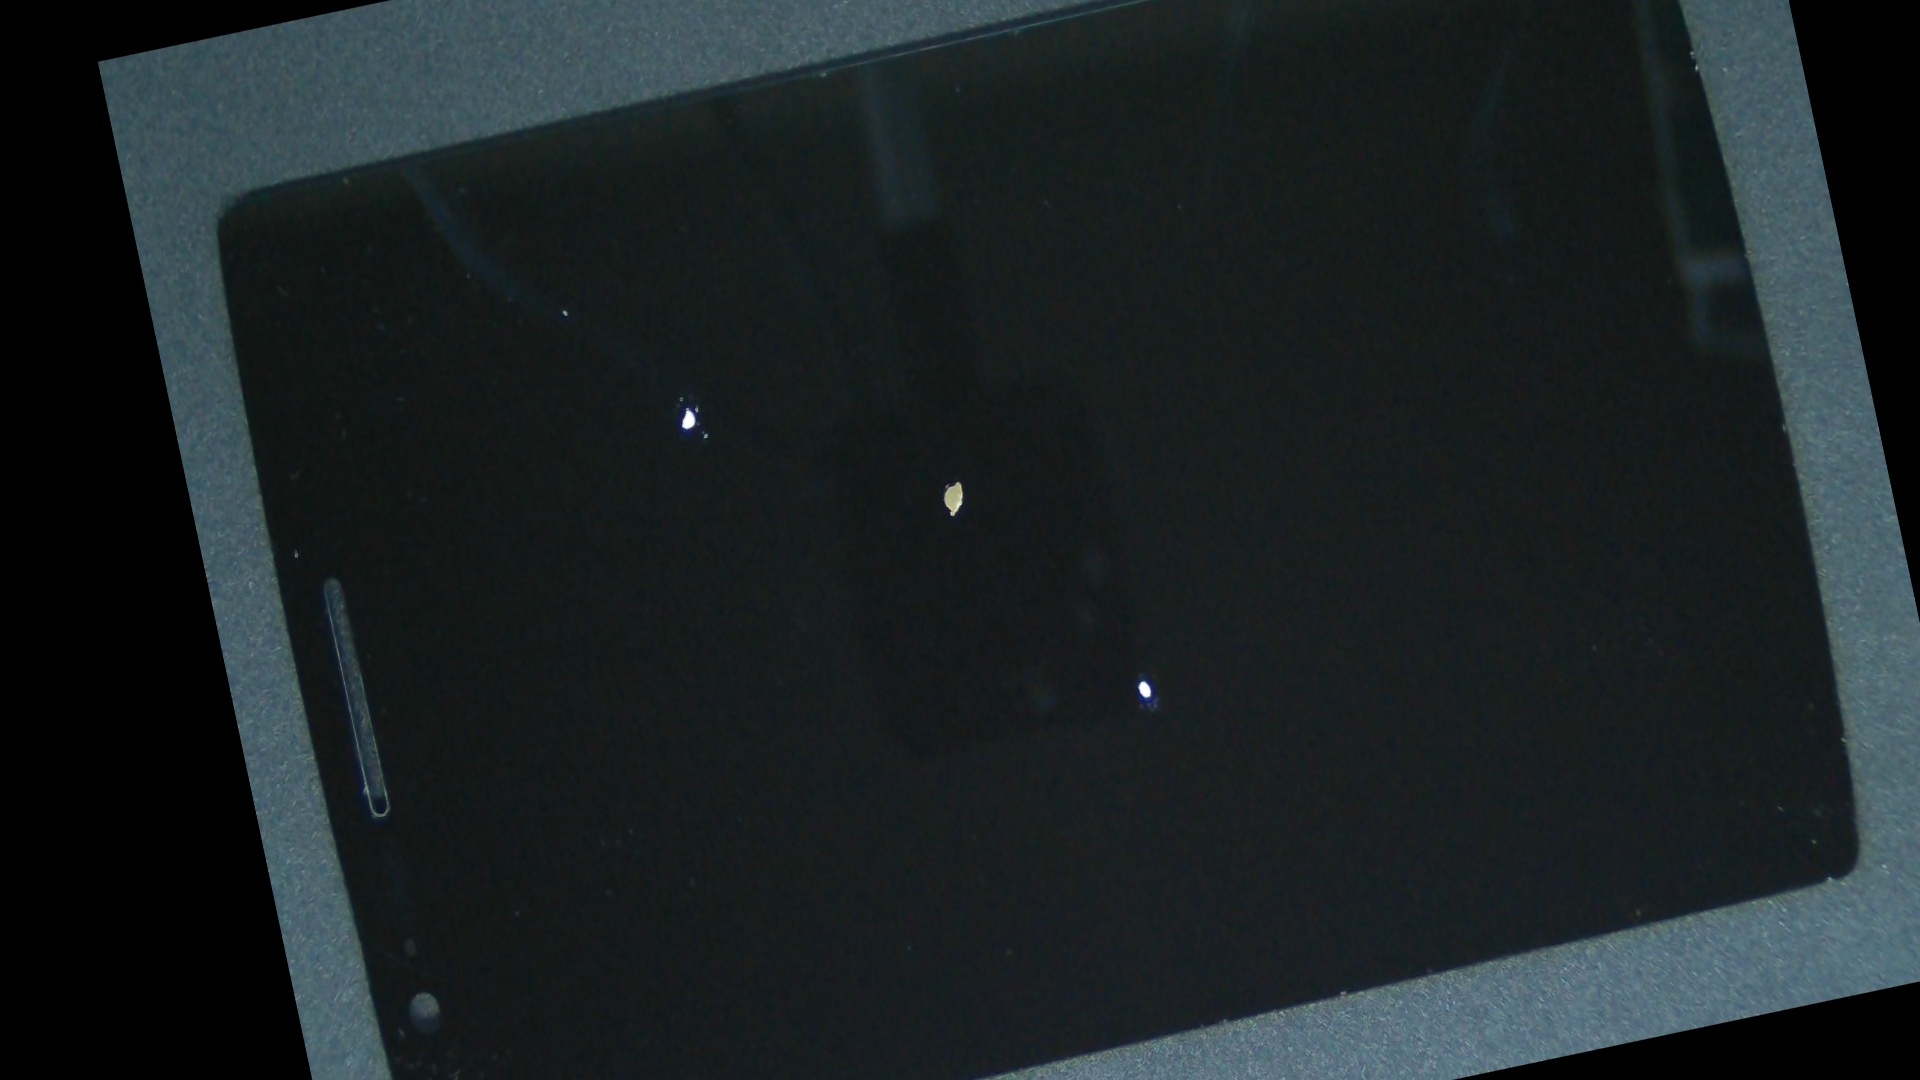oil: (622, 185, 1671, 1080), (529, 113, 1389, 843), (392, 131, 978, 684)
